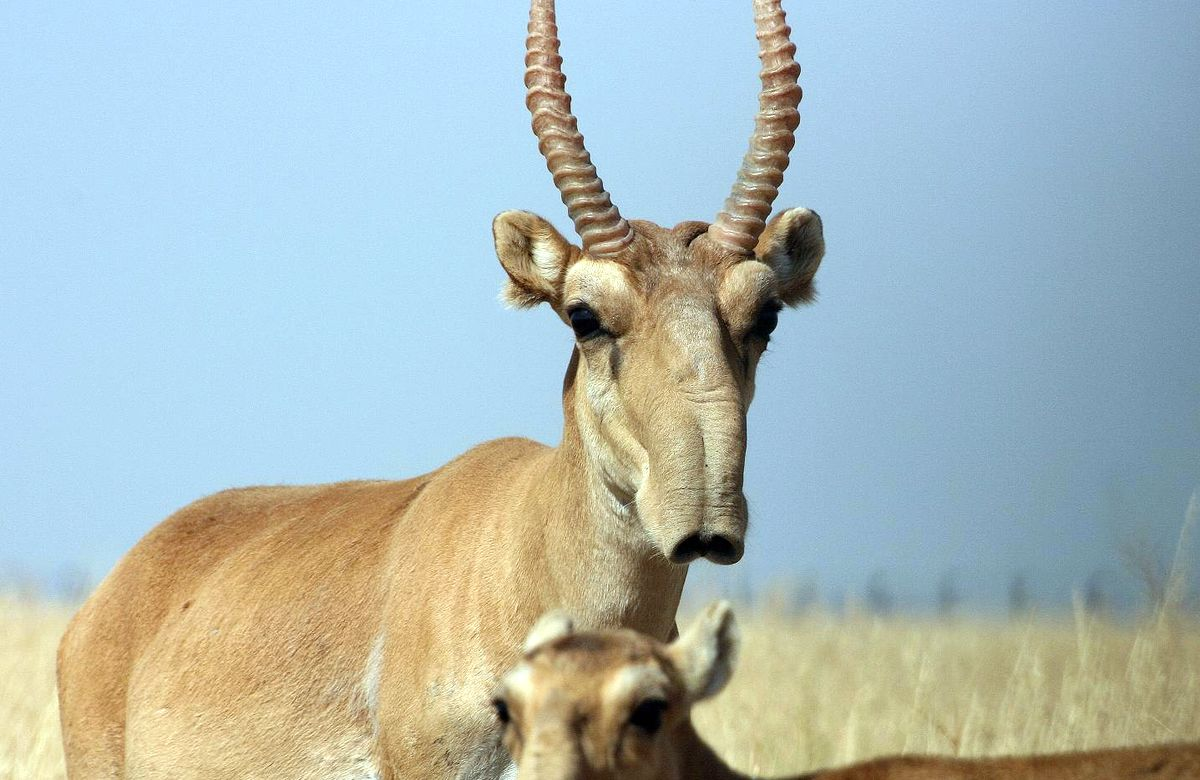saiga: (54, 3, 825, 780)
